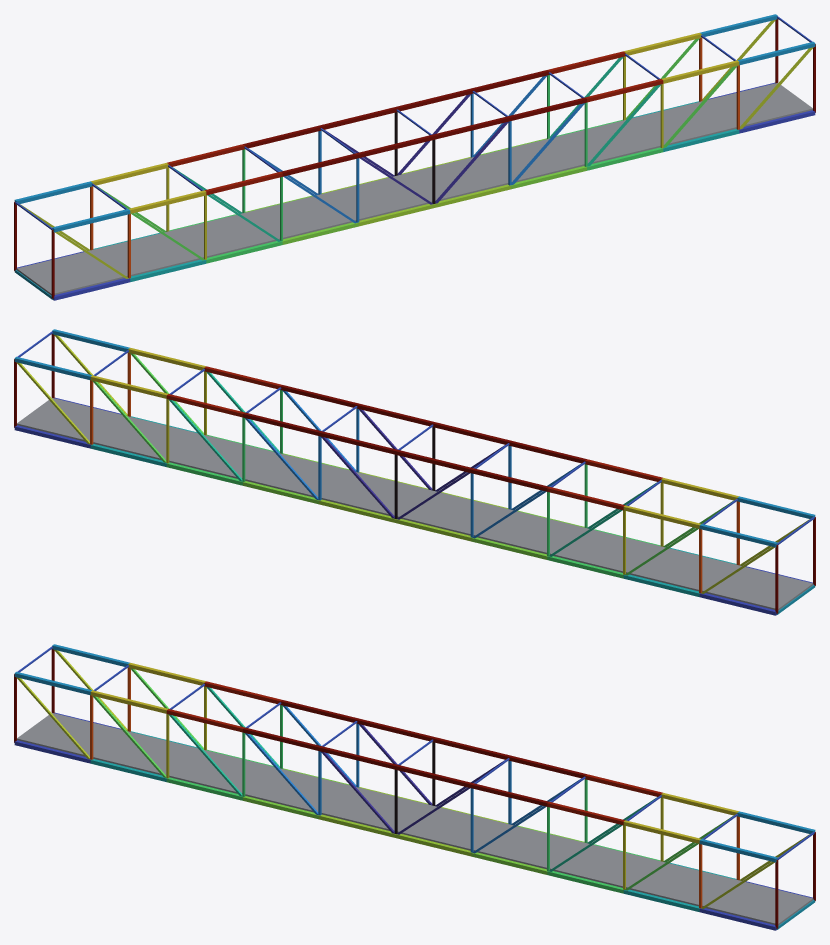
Rendered from 35_3_10_HEA160.glb.
3 views of the same model, one above another, from view 1: azimuth 30°, elevation 25°; view 2: azimuth 150°, elevation 25°; view 3: azimuth 330°, elevation 25° (orthographic).
Bounding box in the file's own units: 35.09 × 3.16 × 3.16.
